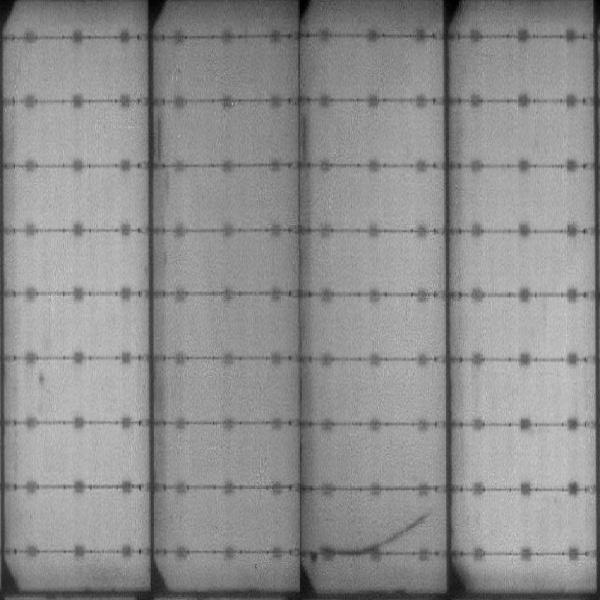scratch: (364, 513, 428, 547)
